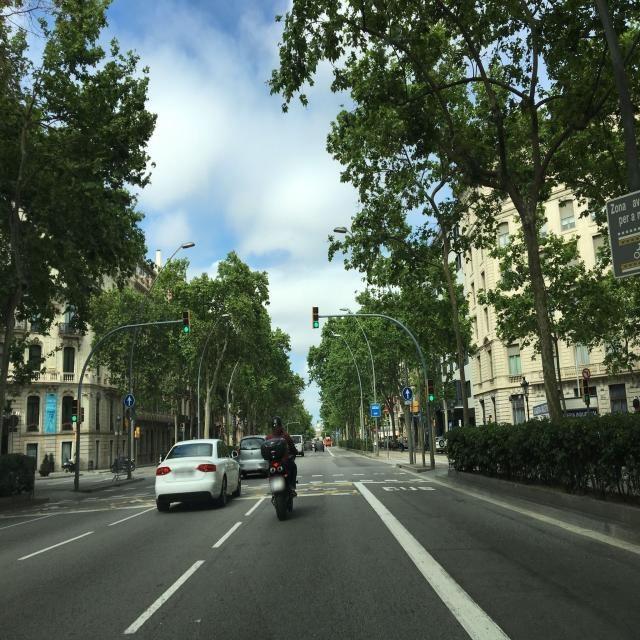bike: (265, 446, 299, 522)
car: (154, 438, 242, 511), (237, 434, 269, 478), (290, 433, 305, 458), (434, 435, 448, 454), (314, 438, 325, 452)
